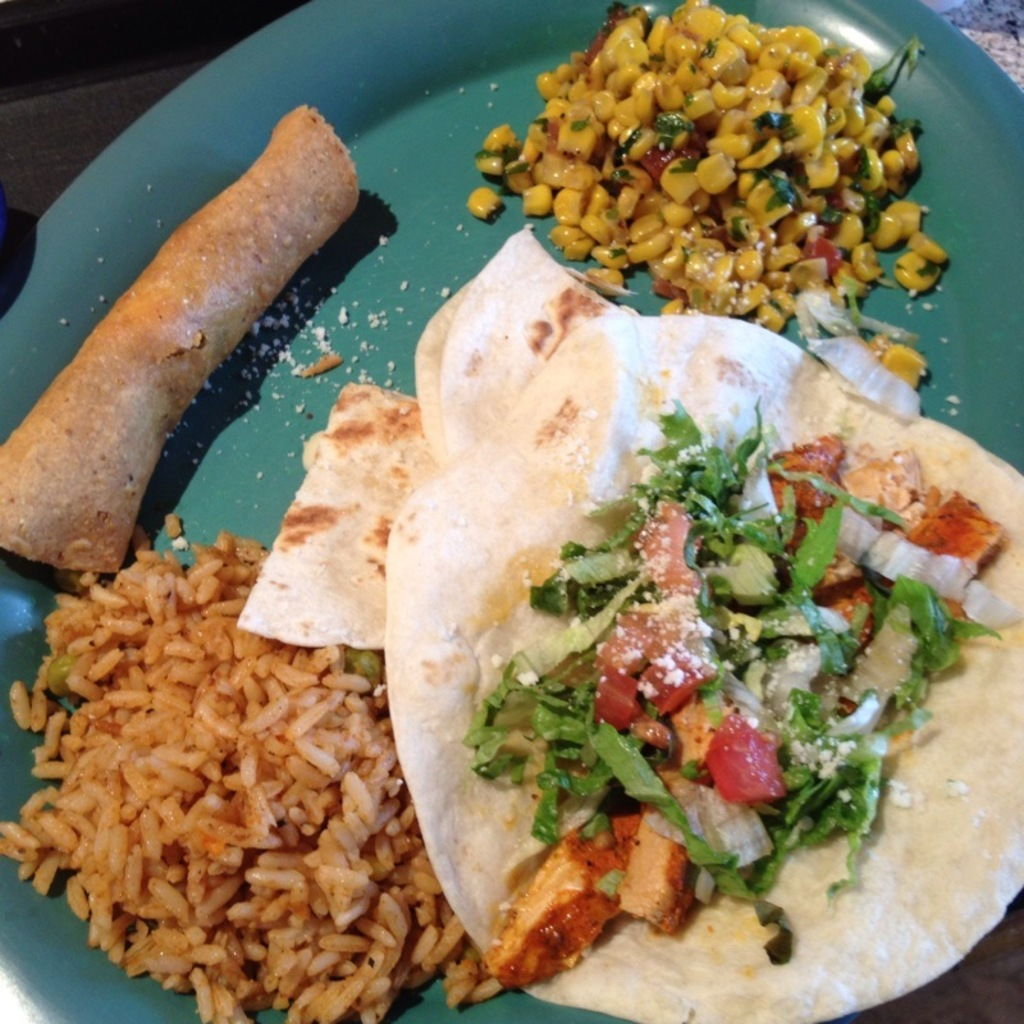taco: (392, 348, 980, 995)
